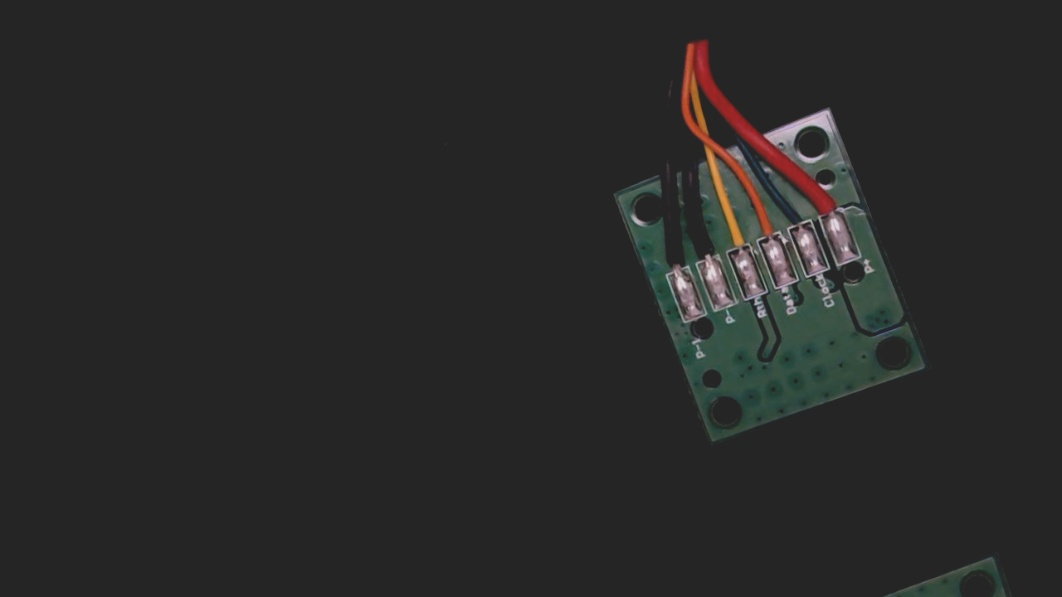Black: (679, 213, 726, 280)
Black1: (649, 230, 694, 292)
Green: (772, 182, 818, 246)
Orange: (742, 191, 787, 257)
Red: (804, 170, 850, 234)
Yellow: (709, 201, 756, 268)
